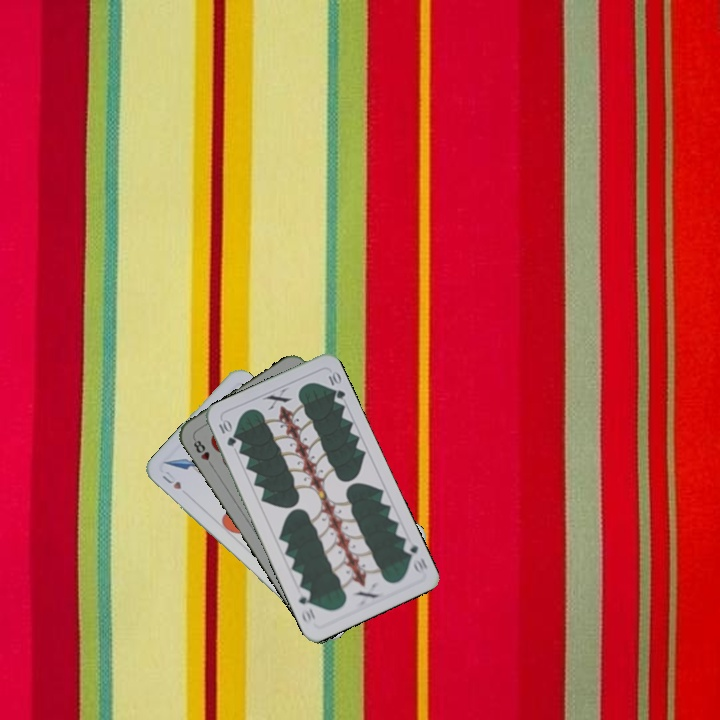G10: (399, 536, 430, 575), (215, 416, 239, 449)
H8: (189, 434, 216, 470)
HU: (158, 467, 184, 492)
